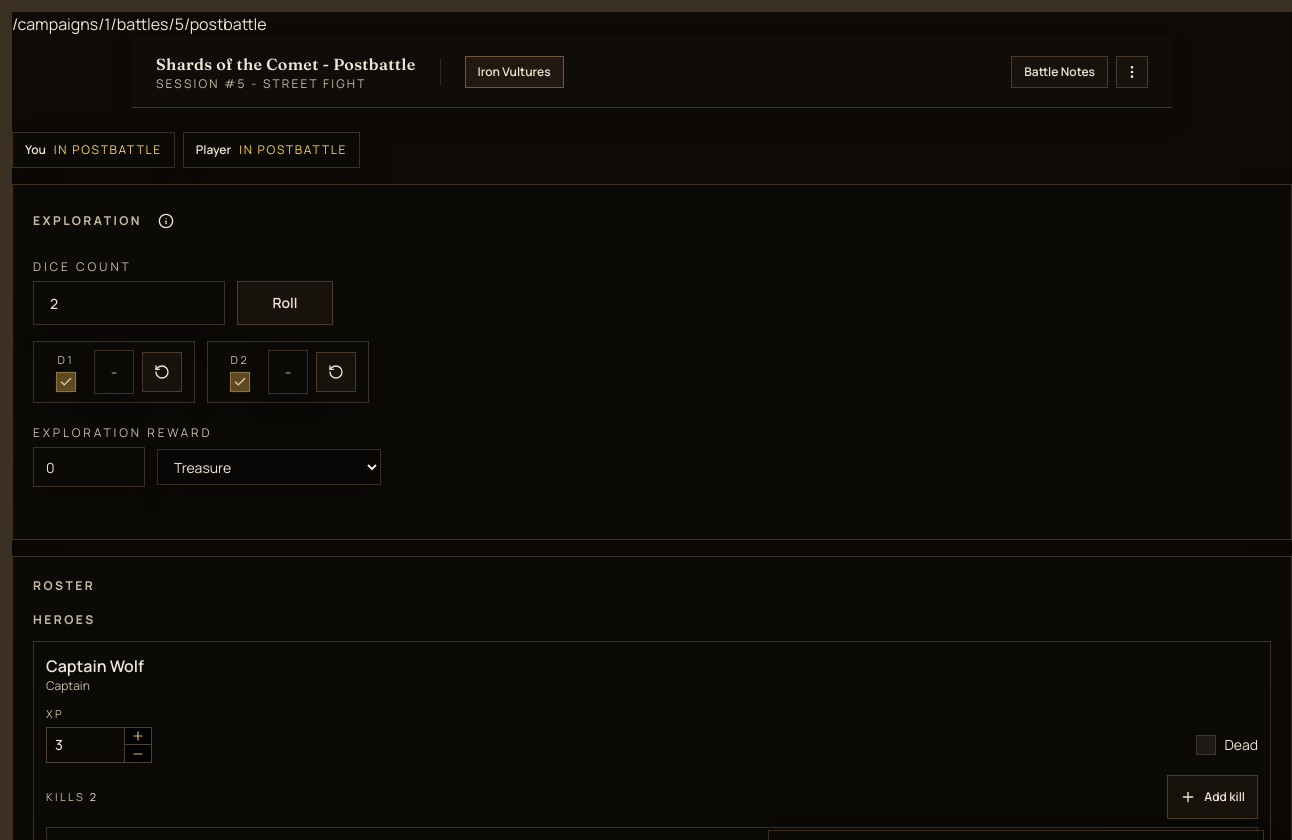
Scenario: BattlePostbattle requests › shows the warning a draft answers when a saved roll is rolled again (BUG-71, decision 9)
Expected: the text "Captain Wolf" is shown, 46,654 -> 144,678
Click the button "Roll": (285, 303) 237,281 -> 333,325
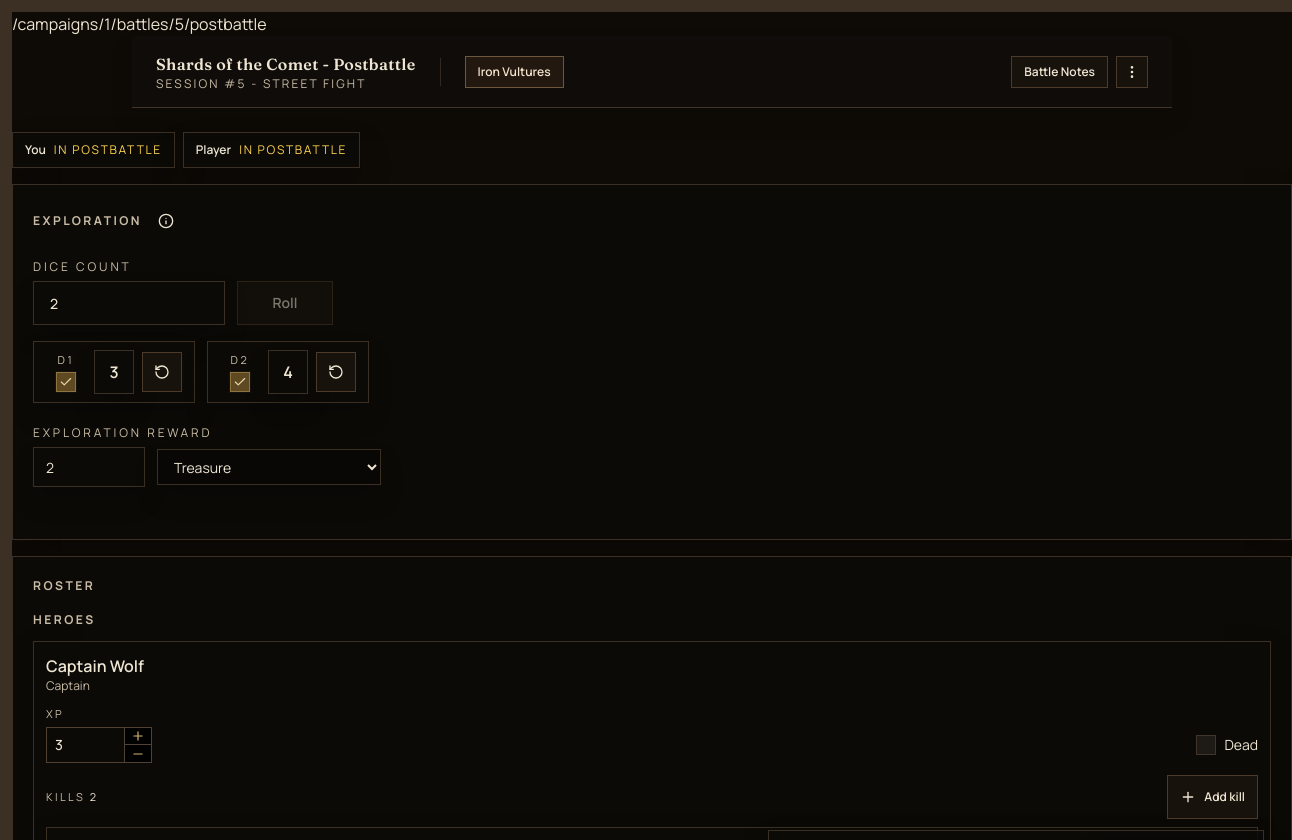
# The test dice roll 3 then 4, so a single die comes up 3: die 2 changes from 4.
Click the button named "Reroll die 2": (336, 372) 316,352 -> 356,392
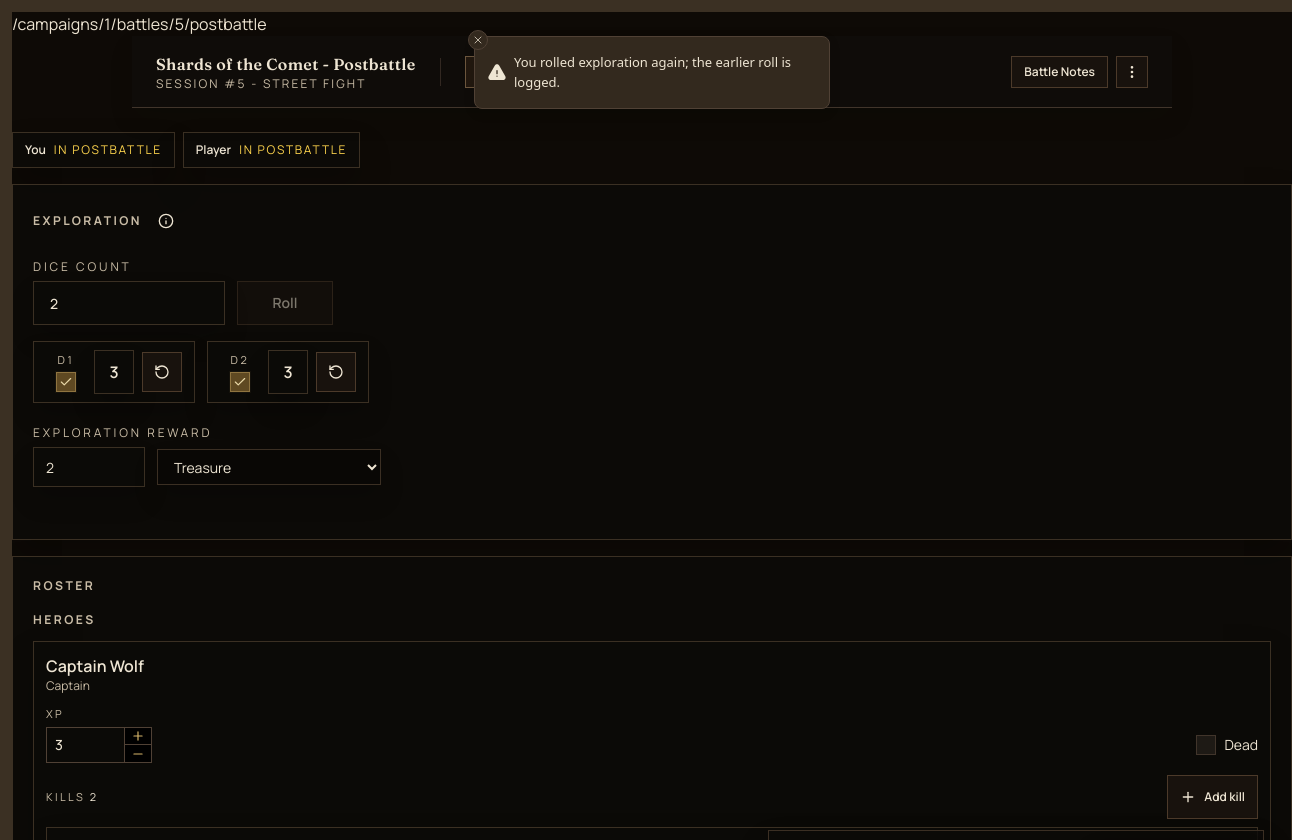
Now the text "You rolled exploration again; the earlier roll is logged." is shown, box 514,53 -> 813,92
